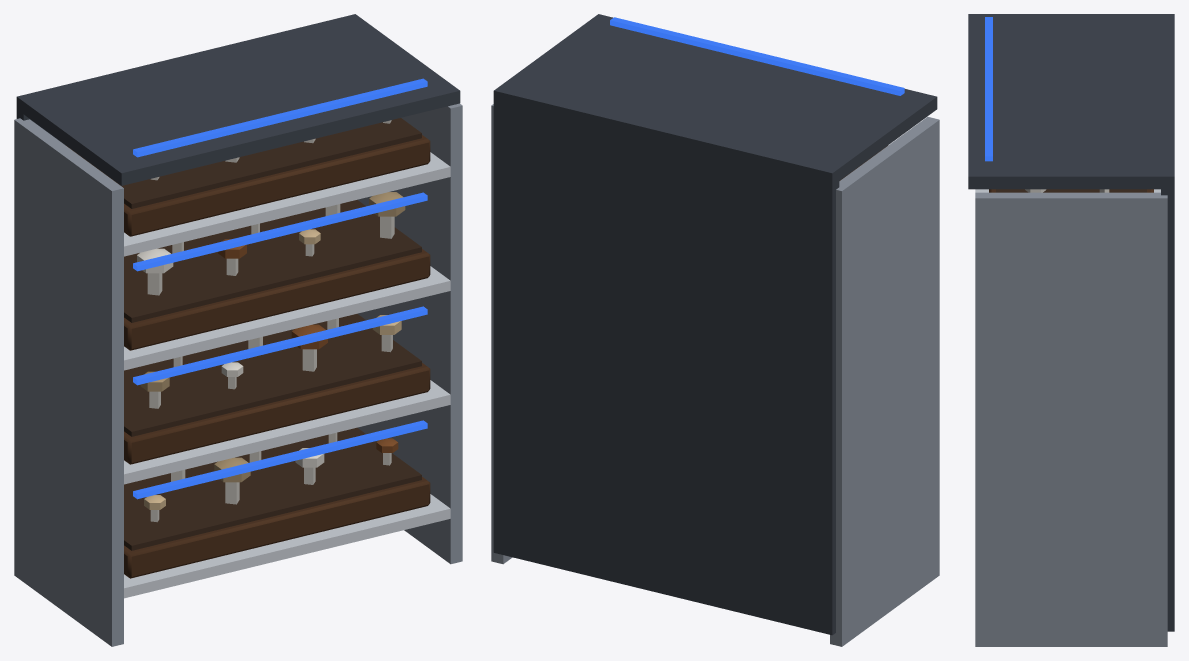
File: planter_mushroom_shelf.glb
3 renders of one model, left to right at view 1: azimuth 30°, elevation 25°; view 2: azimuth 150°, elevation 25°; view 3: azimuth 270°, elevation 25°, orthographic.
Visible parts, largest first — view 1: planter_mushroom_shelf; view 2: planter_mushroom_shelf; view 3: planter_mushroom_shelf.
Part boxes in pixels (<box>): planter_mushroom_shelf: <box>14,14,462,646</box>; planter_mushroom_shelf: <box>491,14,939,646</box>; planter_mushroom_shelf: <box>968,14,1174,646</box>.
Size of the model in its own units: 1.45 by 1.91 by 0.75.
